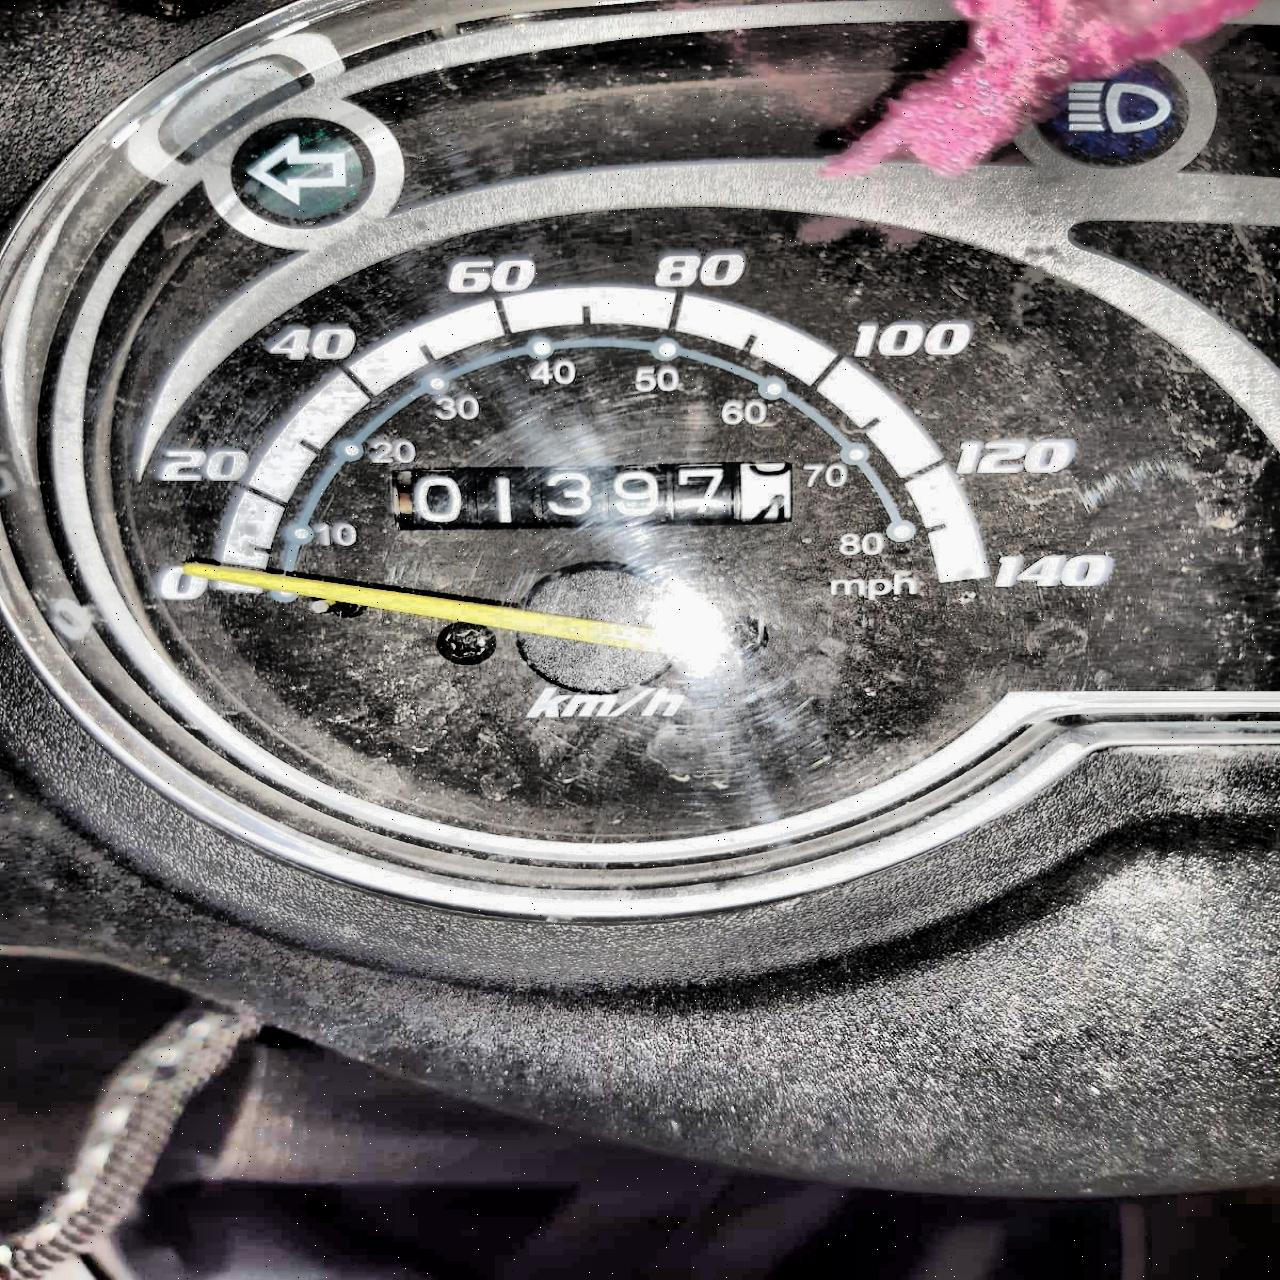0: (409, 474, 461, 523)
1: (484, 472, 522, 527)
3: (544, 470, 594, 518)
4: (745, 492, 798, 530)
7: (675, 465, 724, 516)
9: (607, 469, 662, 520)
odometer: (387, 458, 804, 535)
